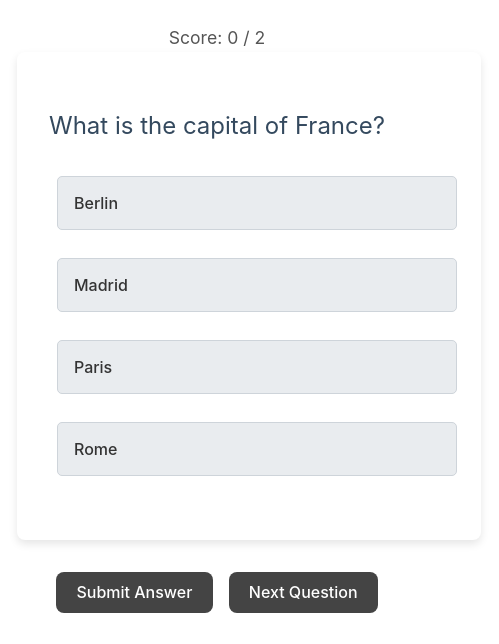
Test: GamePage › submits incorrect answer and shows feedback
The width and height of the screenshot is (499, 644).
Click the button "Berlin" at (96, 203), box [57,176,457,230]
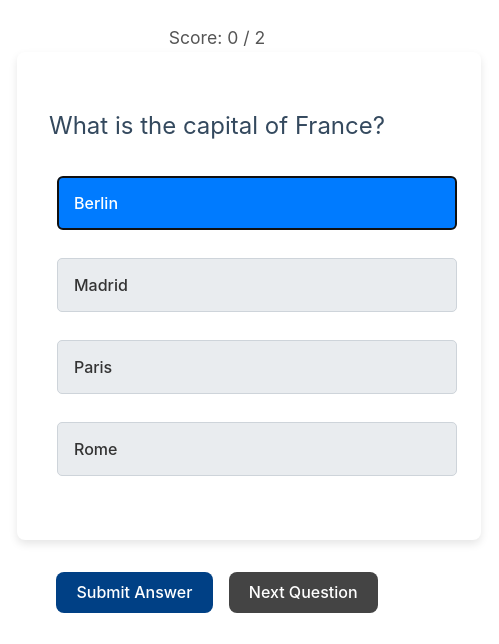
Click the button "Submit Answer" at (134, 592), box [56,572,213,613]
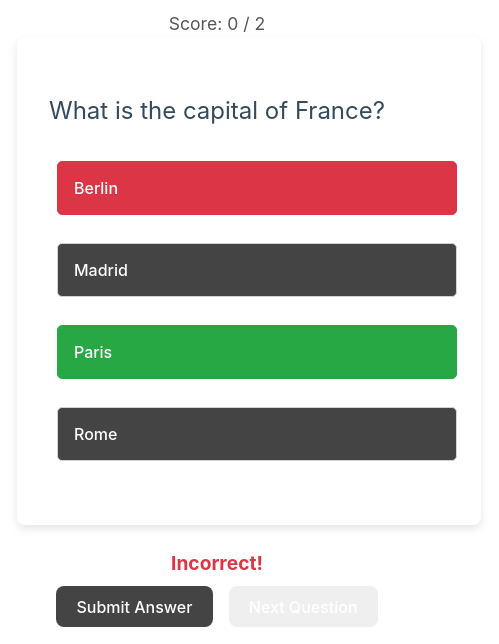
Check: the text "Incorrect!" is shown, box [171,551,263,575]
